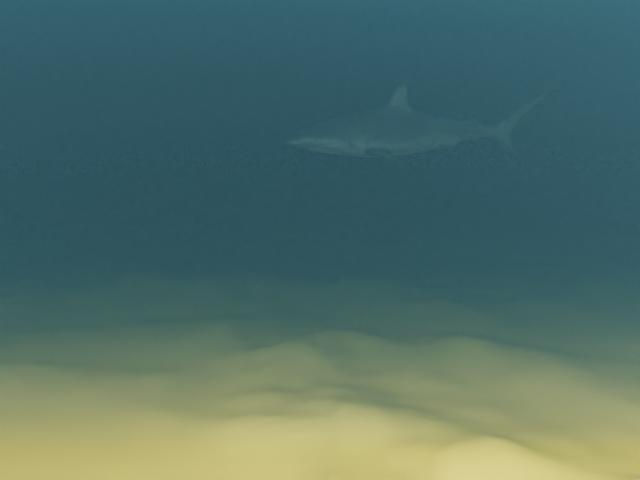Carribean Shark.001: (285, 80, 558, 165)
